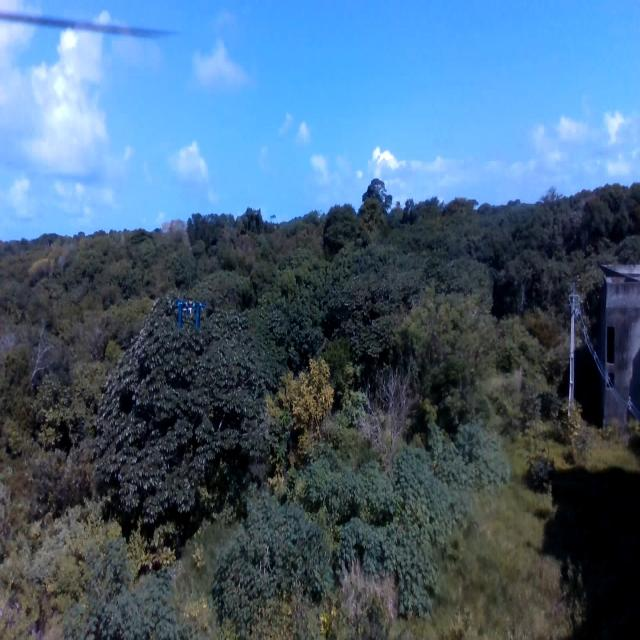-uav-: (172, 283, 206, 339)
